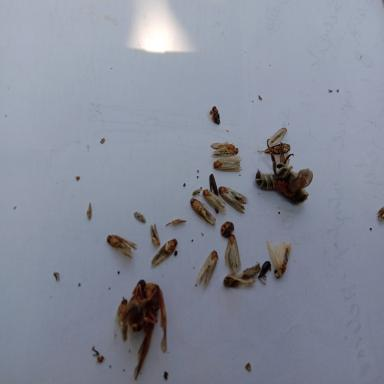pbw: (266, 238, 292, 279), (196, 248, 218, 288), (218, 186, 249, 214), (107, 234, 139, 260), (151, 238, 177, 268), (190, 198, 216, 226), (202, 188, 227, 215), (224, 234, 241, 273), (212, 155, 242, 173), (257, 142, 290, 156), (209, 142, 240, 156), (224, 276, 256, 288), (268, 126, 287, 146), (241, 262, 261, 280), (150, 223, 161, 247)
